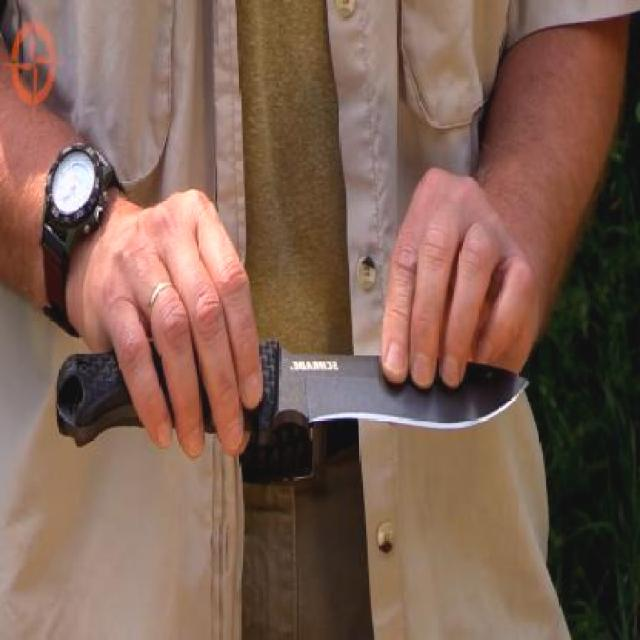knife: (49, 299, 543, 463)
